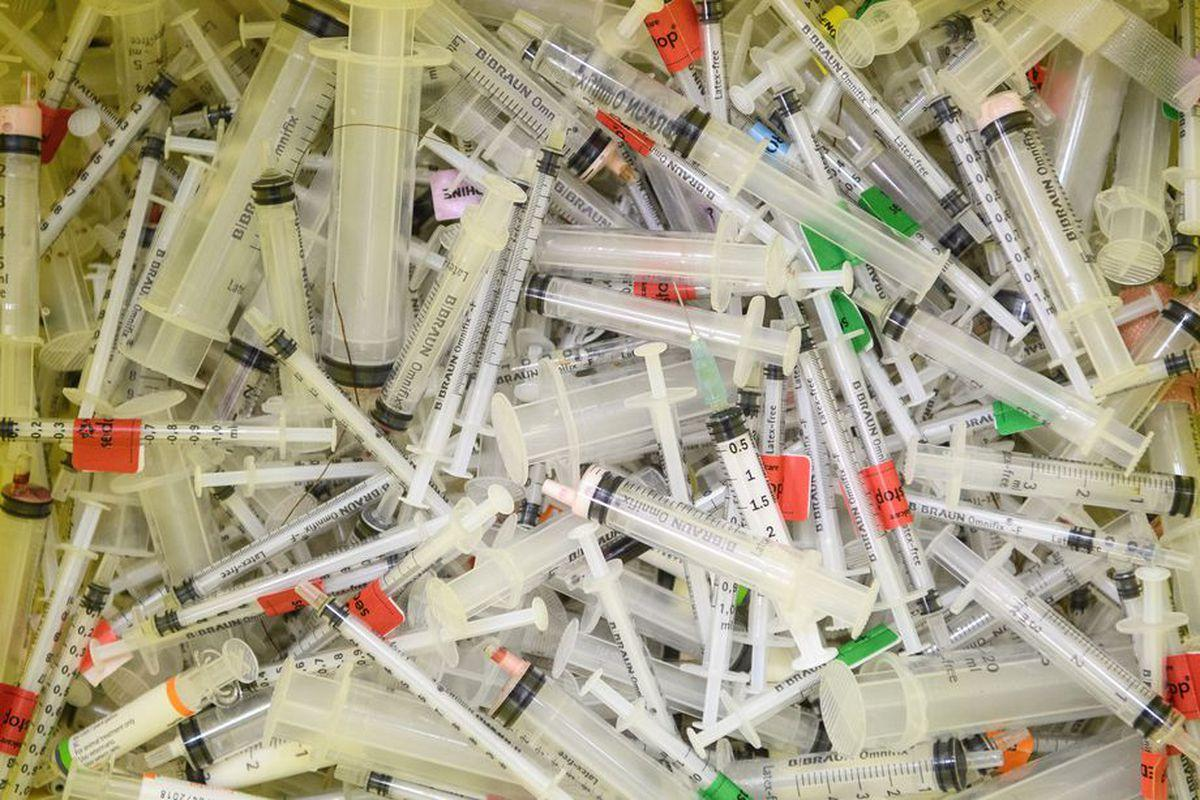Syringe: (533, 29, 941, 295), (136, 2, 345, 383), (928, 532, 1199, 761), (296, 583, 569, 799), (543, 465, 875, 633), (920, 70, 1089, 396), (153, 487, 512, 633), (312, 0, 447, 385), (880, 300, 1148, 469), (113, 472, 395, 632), (979, 92, 1132, 378), (772, 0, 973, 217), (794, 338, 925, 651), (372, 174, 525, 429), (264, 647, 523, 795), (446, 148, 561, 474), (820, 643, 1106, 751), (489, 647, 692, 799), (38, 51, 189, 253), (525, 275, 799, 385), (244, 309, 414, 484), (53, 639, 257, 773), (5, 556, 116, 799), (417, 0, 587, 153), (71, 136, 162, 417), (904, 435, 1194, 515), (106, 158, 208, 384), (907, 491, 1193, 569), (580, 670, 749, 799), (570, 524, 671, 730), (534, 226, 790, 305), (1015, 0, 1199, 107), (375, 484, 513, 595), (1094, 86, 1171, 284), (727, 739, 979, 799), (0, 73, 41, 414), (938, 8, 1061, 115), (251, 168, 315, 356), (687, 665, 824, 751), (0, 417, 336, 452), (0, 453, 51, 683), (39, 2, 102, 159), (835, 0, 962, 68), (193, 456, 384, 496), (94, 0, 166, 106), (62, 764, 262, 799), (170, 9, 241, 107), (334, 765, 488, 799), (1093, 348, 1199, 396), (1165, 104, 1199, 236), (697, 0, 728, 121), (0, 11, 55, 75)
